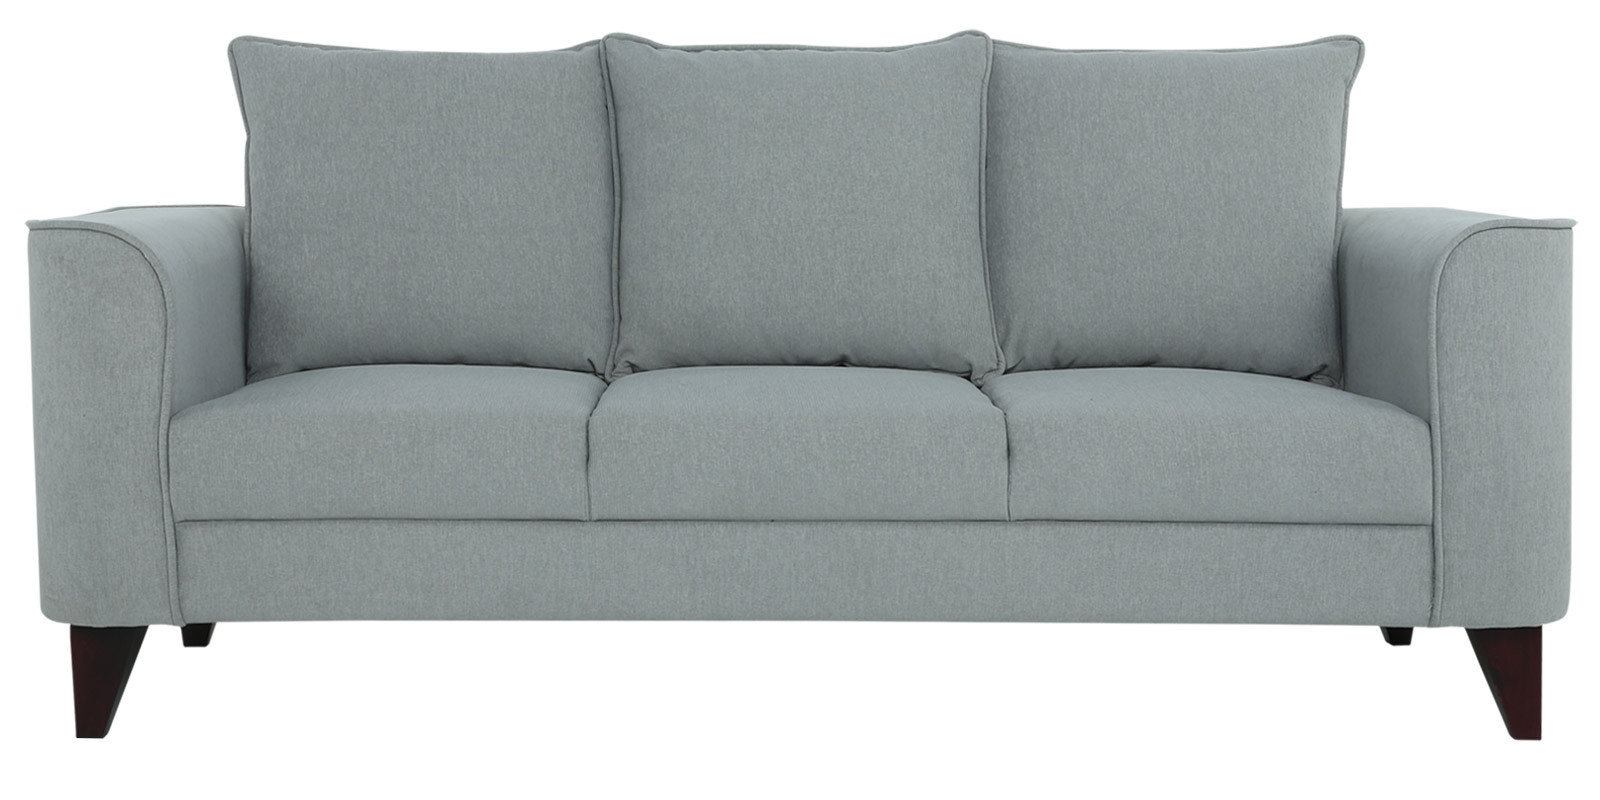Lara Three Seater Sofa in Ash Grey Colour by CasaCraft: (30, 28, 1580, 741)
